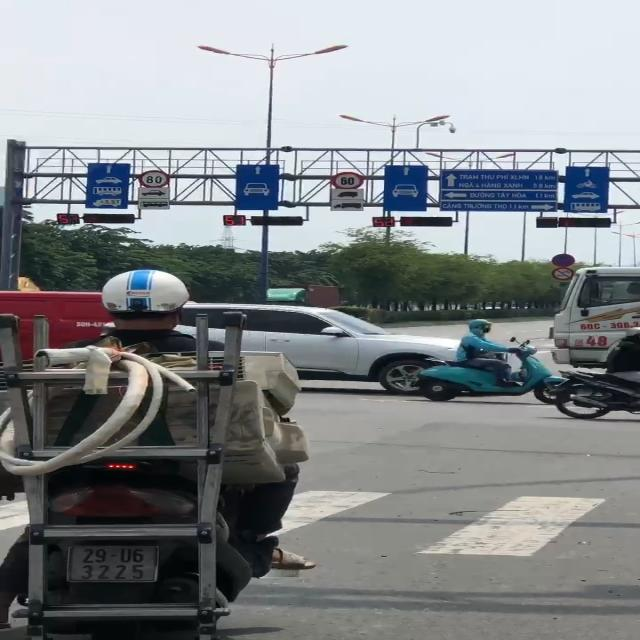Bien bao toc do toi da cho phep: (331, 169, 367, 190), (137, 168, 173, 188)
